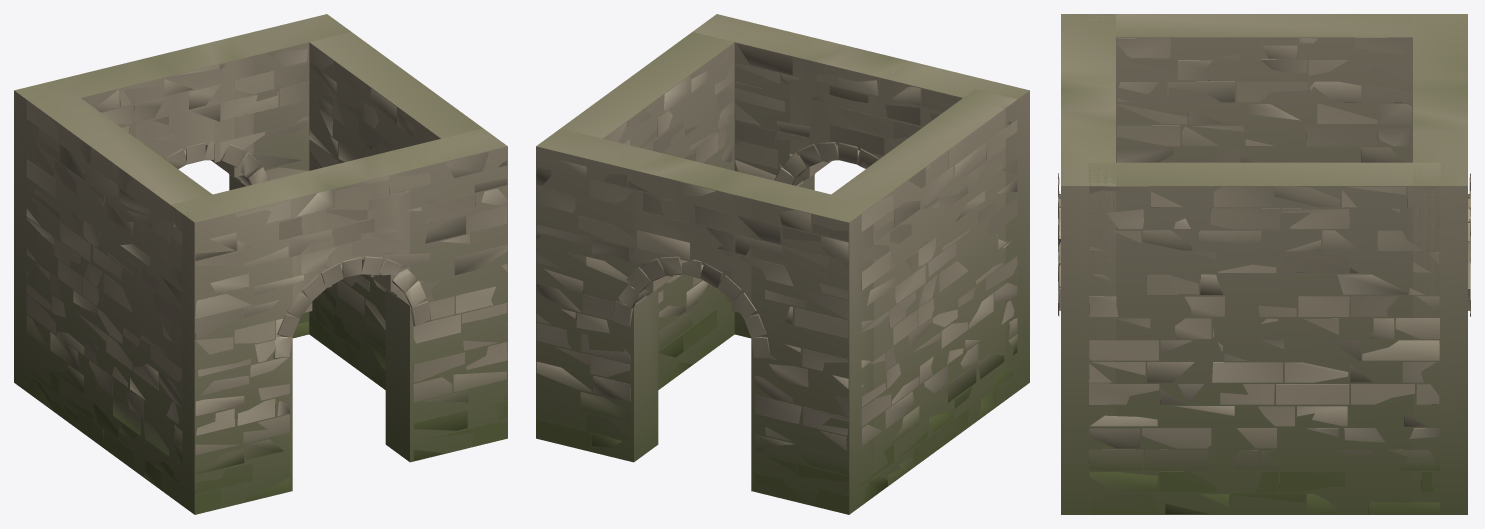
Rendered from citadel_tower_base.glb.
3 renders of one model, left to right at view 1: azimuth 30°, elevation 25°; view 2: azimuth 150°, elevation 25°; view 3: azimuth 270°, elevation 25°, orthographic. The views are drawn at different scales.
Parts seen in each view (by area): view 1: citadel_tower_base_far, citadel_tower_base; view 2: citadel_tower_base_far, citadel_tower_base; view 3: citadel_tower_base_far, citadel_tower_base.
Boxes of the visible parts, left/top/right/bottom form: citadel_tower_base_far: left=14, top=14, right=507, bottom=514; citadel_tower_base: left=26, top=43, right=507, bottom=514; citadel_tower_base_far: left=536, top=14, right=1029, bottom=514; citadel_tower_base: left=536, top=44, right=1017, bottom=513; citadel_tower_base_far: left=1061, top=14, right=1467, bottom=514; citadel_tower_base: left=1058, top=37, right=1470, bottom=514.
Size of the model in its own units: 37.02 by 33 by 37.52.
